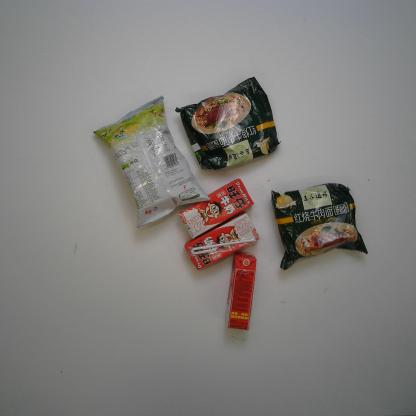Instant Noodles: (175, 76, 282, 171), (271, 183, 369, 271)
Milk: (178, 178, 254, 239), (183, 212, 260, 271), (224, 252, 257, 330)
Puffed Food: (92, 95, 210, 228)
